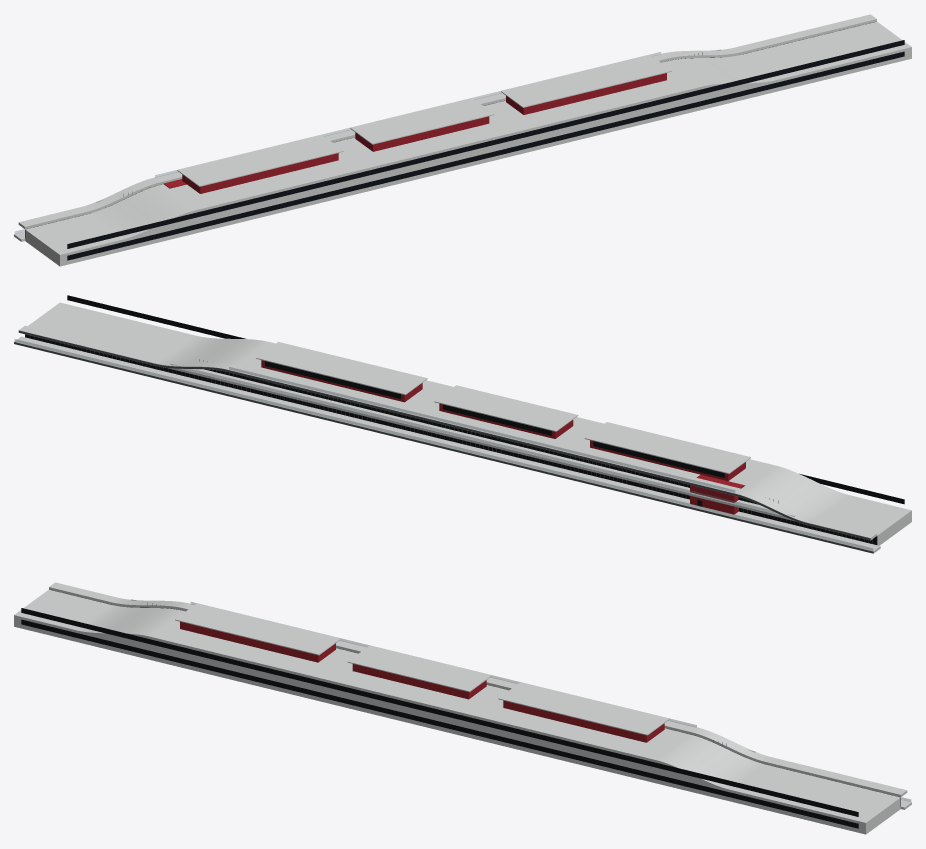
Rendered from hun_pit_upper.glb.
3 views of the same model, one above another, from view 1: azimuth 30°, elevation 25°; view 2: azimuth 150°, elevation 25°; view 3: azimuth 330°, elevation 25° (orthographic).
Parts seen in each view (by area): view 1: hungaroring-pit-building; view 2: hungaroring-pit-building; view 3: hungaroring-pit-building.
Part boxes in pixels (box(x1,y1,x2,y2)): hungaroring-pit-building: box(14, 14, 911, 266); hungaroring-pit-building: box(14, 295, 911, 553); hungaroring-pit-building: box(14, 582, 911, 834).
Bounding box in the file's own units: 348 × 13.95 × 29.71.
